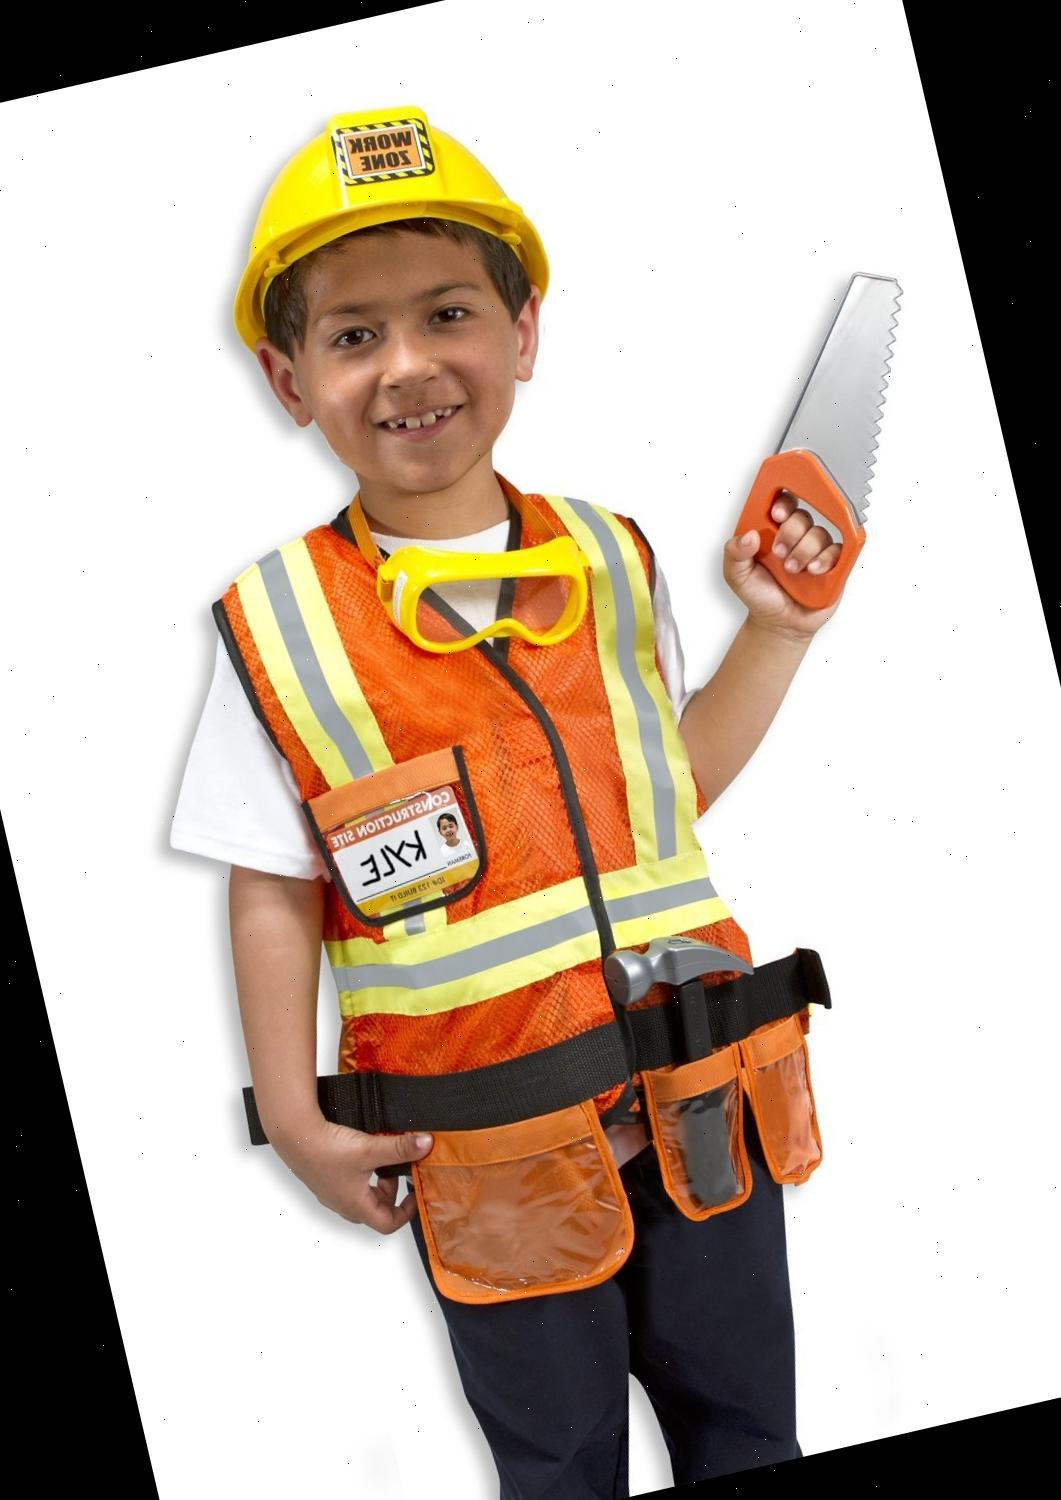helmet: (186, 73, 566, 386)
wear: (218, 460, 774, 1138)
